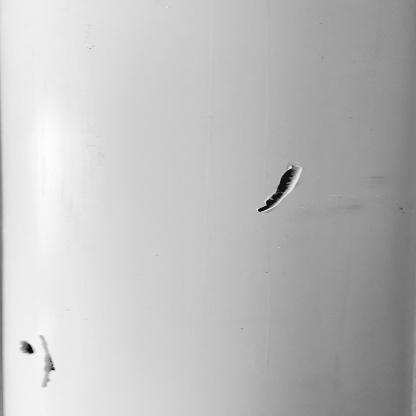fengxi: (41, 324, 59, 390)
kongdong: (251, 162, 307, 216), (8, 333, 38, 360)
